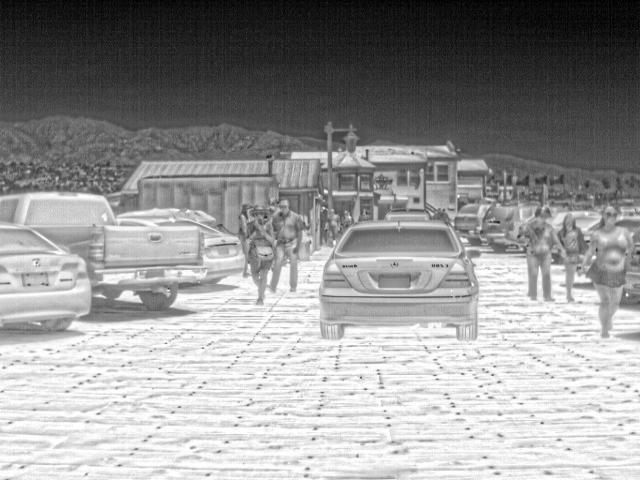car: (1, 192, 212, 310), (317, 219, 485, 342), (1, 222, 95, 337), (116, 216, 244, 286), (481, 203, 539, 252), (118, 208, 222, 228), (453, 198, 496, 244), (382, 209, 433, 221)
person: (578, 203, 636, 339), (268, 200, 306, 294), (521, 207, 558, 301), (242, 208, 276, 303), (556, 214, 587, 302), (318, 204, 336, 246), (327, 207, 341, 239), (342, 208, 355, 229)
